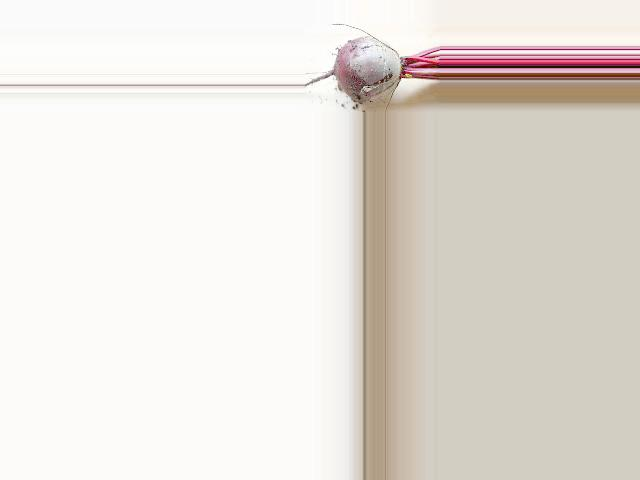beet: (303, 23, 439, 103)
